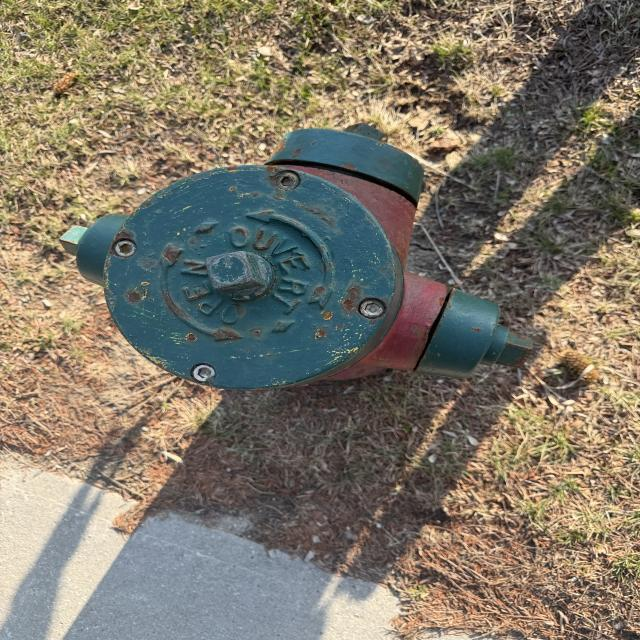Fire hydrant: (58, 123, 534, 392)
